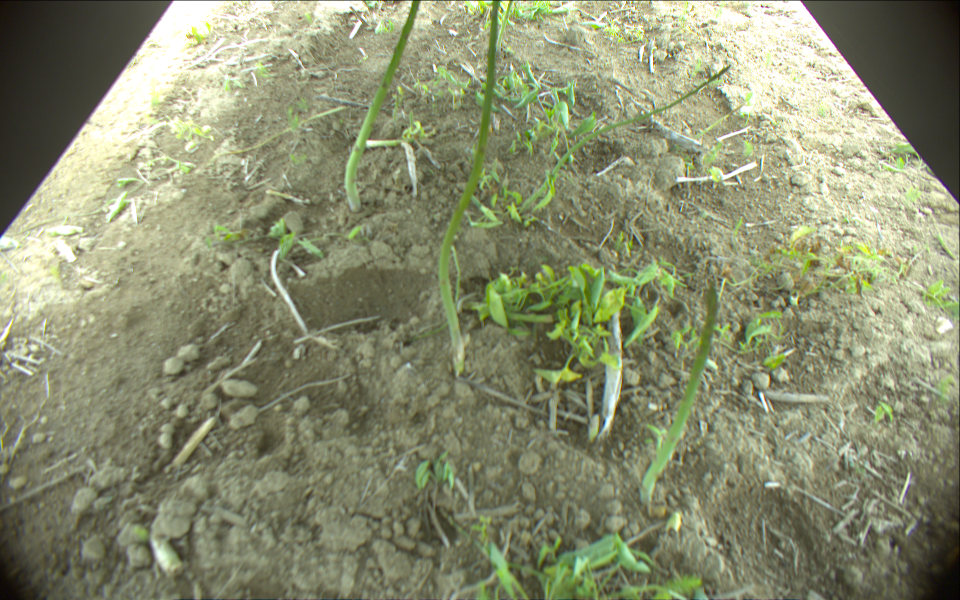aspa: (523, 67, 730, 214), (438, 1, 499, 374), (641, 279, 720, 500), (344, 1, 422, 213), (497, 1, 513, 50)
